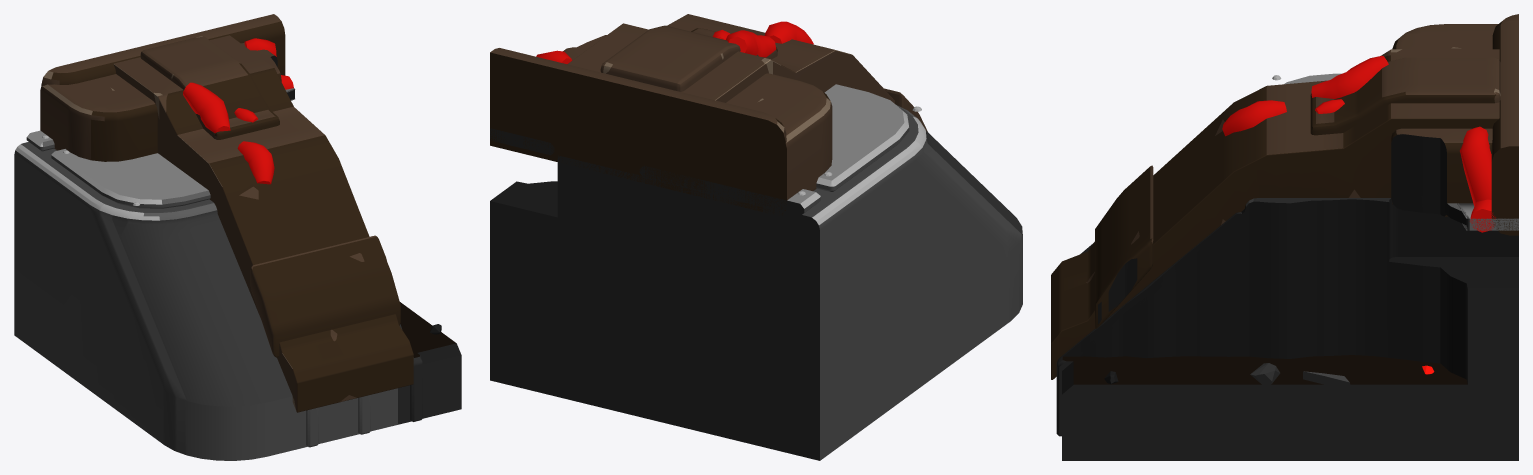
The model's file is bronze_pump_bl_wreck.glb.
3 renders of one model, left to right at view 1: azimuth 30°, elevation 25°; view 2: azimuth 150°, elevation 25°; view 3: azimuth 270°, elevation 25°, orthographic. The views are drawn at different scales.
Parts seen in each view (by area): view 1: bronze_pump_bl_wreck; view 2: bronze_pump_bl_wreck; view 3: bronze_pump_bl_wreck.
Boxes of the visible parts, x1,y1,x2,y2 form: bronze_pump_bl_wreck: [14, 14, 461, 460]; bronze_pump_bl_wreck: [490, 14, 1022, 460]; bronze_pump_bl_wreck: [1051, 14, 1518, 460].
Bounding box in the file's own units: 20 × 19.43 × 25.6.
